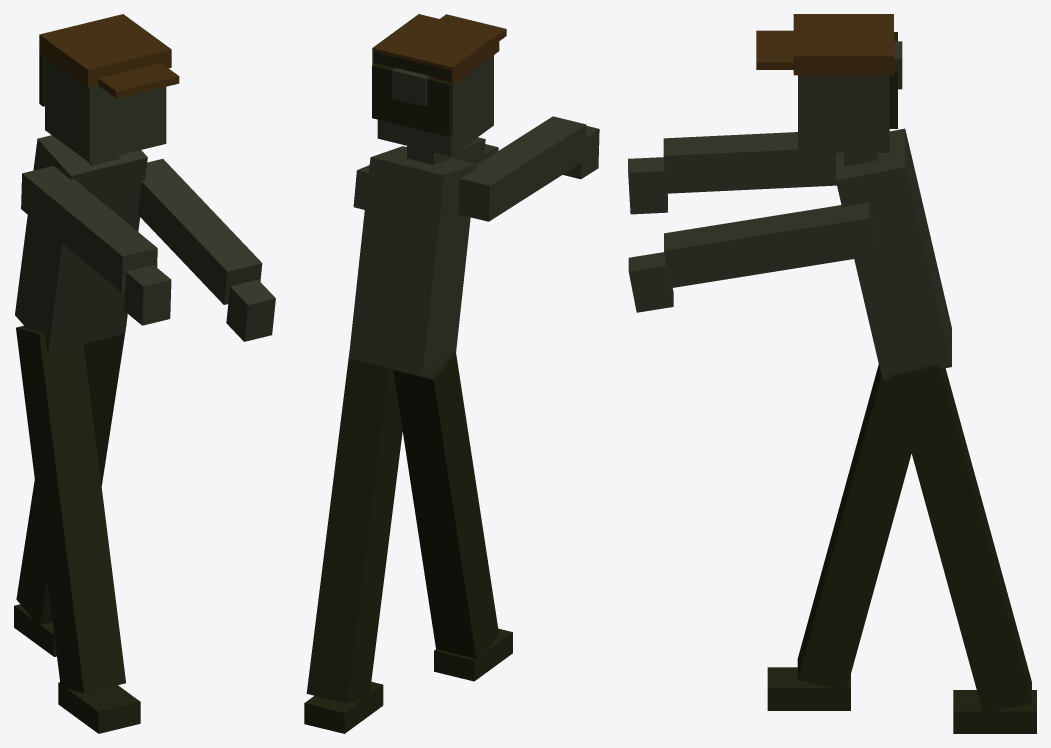
The model's file is SM_ZombiFino_v2_Gorra_LOD1.fbx.
3 views of the same model, side by side, from view 1: azimuth 30°, elevation 25°; view 2: azimuth 150°, elevation 25°; view 3: azimuth 270°, elevation 25° (orthographic). The views are drawn at different scales.
Visible parts, largest first — view 1: SM_zombi_fino_v2_LOD1; view 2: SM_zombi_fino_v2_LOD1; view 3: SM_zombi_fino_v2_LOD1.
Part boxes in pixels (x1=…): SM_zombi_fino_v2_LOD1: x1=14, y1=14, x2=275, y2=733; SM_zombi_fino_v2_LOD1: x1=304, y1=14, x2=599, y2=733; SM_zombi_fino_v2_LOD1: x1=628, y1=14, x2=1036, y2=733.
Size of the model in its own units: 0.4 by 1.79 by 0.9796.
